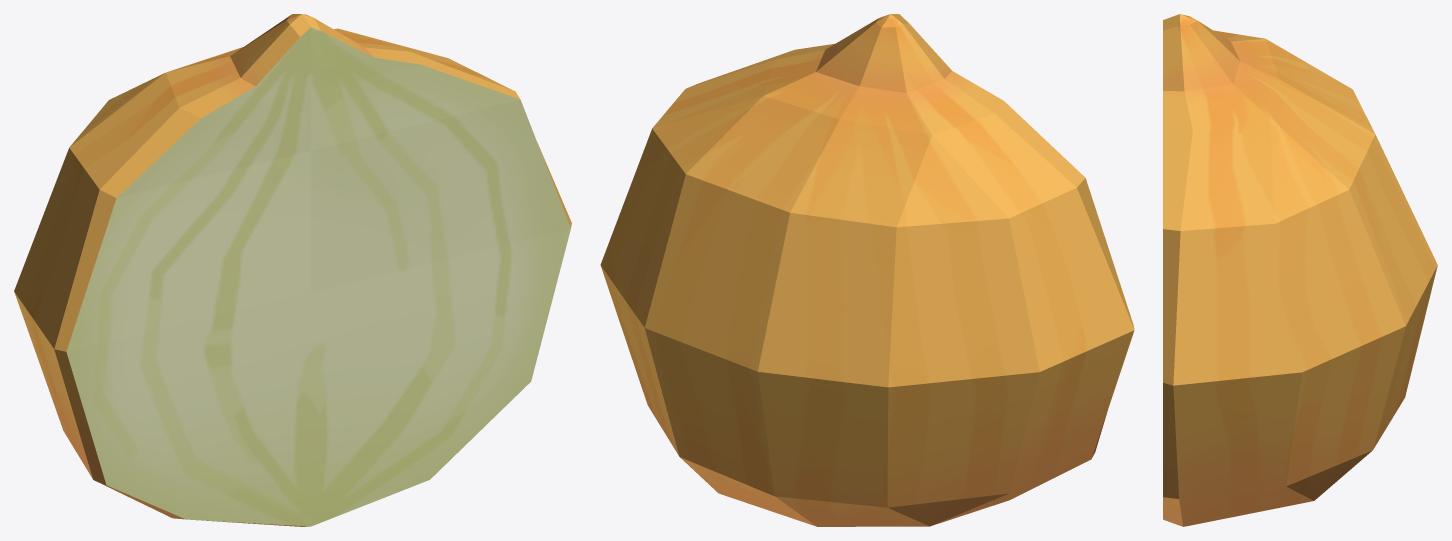
Rendered from Onion.fbx.
3 renders of one model, left to right at view 1: azimuth 30°, elevation 25°; view 2: azimuth 150°, elevation 25°; view 3: azimuth 270°, elevation 25°, orthographic. The views are drawn at different scales.
Parts seen in each view (by area): view 1: Ingredients_Onion; view 2: Ingredients_Onion; view 3: Ingredients_Onion.
Boxes of the visible parts, bbox=[...] form: Ingredients_Onion: bbox=[14, 14, 571, 526]; Ingredients_Onion: bbox=[600, 14, 1134, 526]; Ingredients_Onion: bbox=[1163, 14, 1437, 526].
Size of the model in its own units: 54.07 by 51.17 by 26.85.
